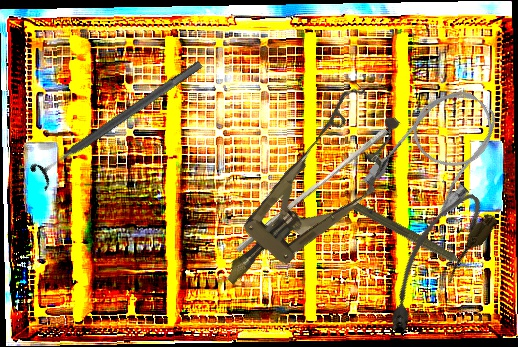Cannula: (357, 74, 518, 243), (365, 184, 503, 342)
Fixation Ring: (28, 51, 210, 192)
Handpiece: (348, 199, 478, 278)
Pusher: (234, 121, 390, 260)
Speculum: (195, 77, 420, 313)
